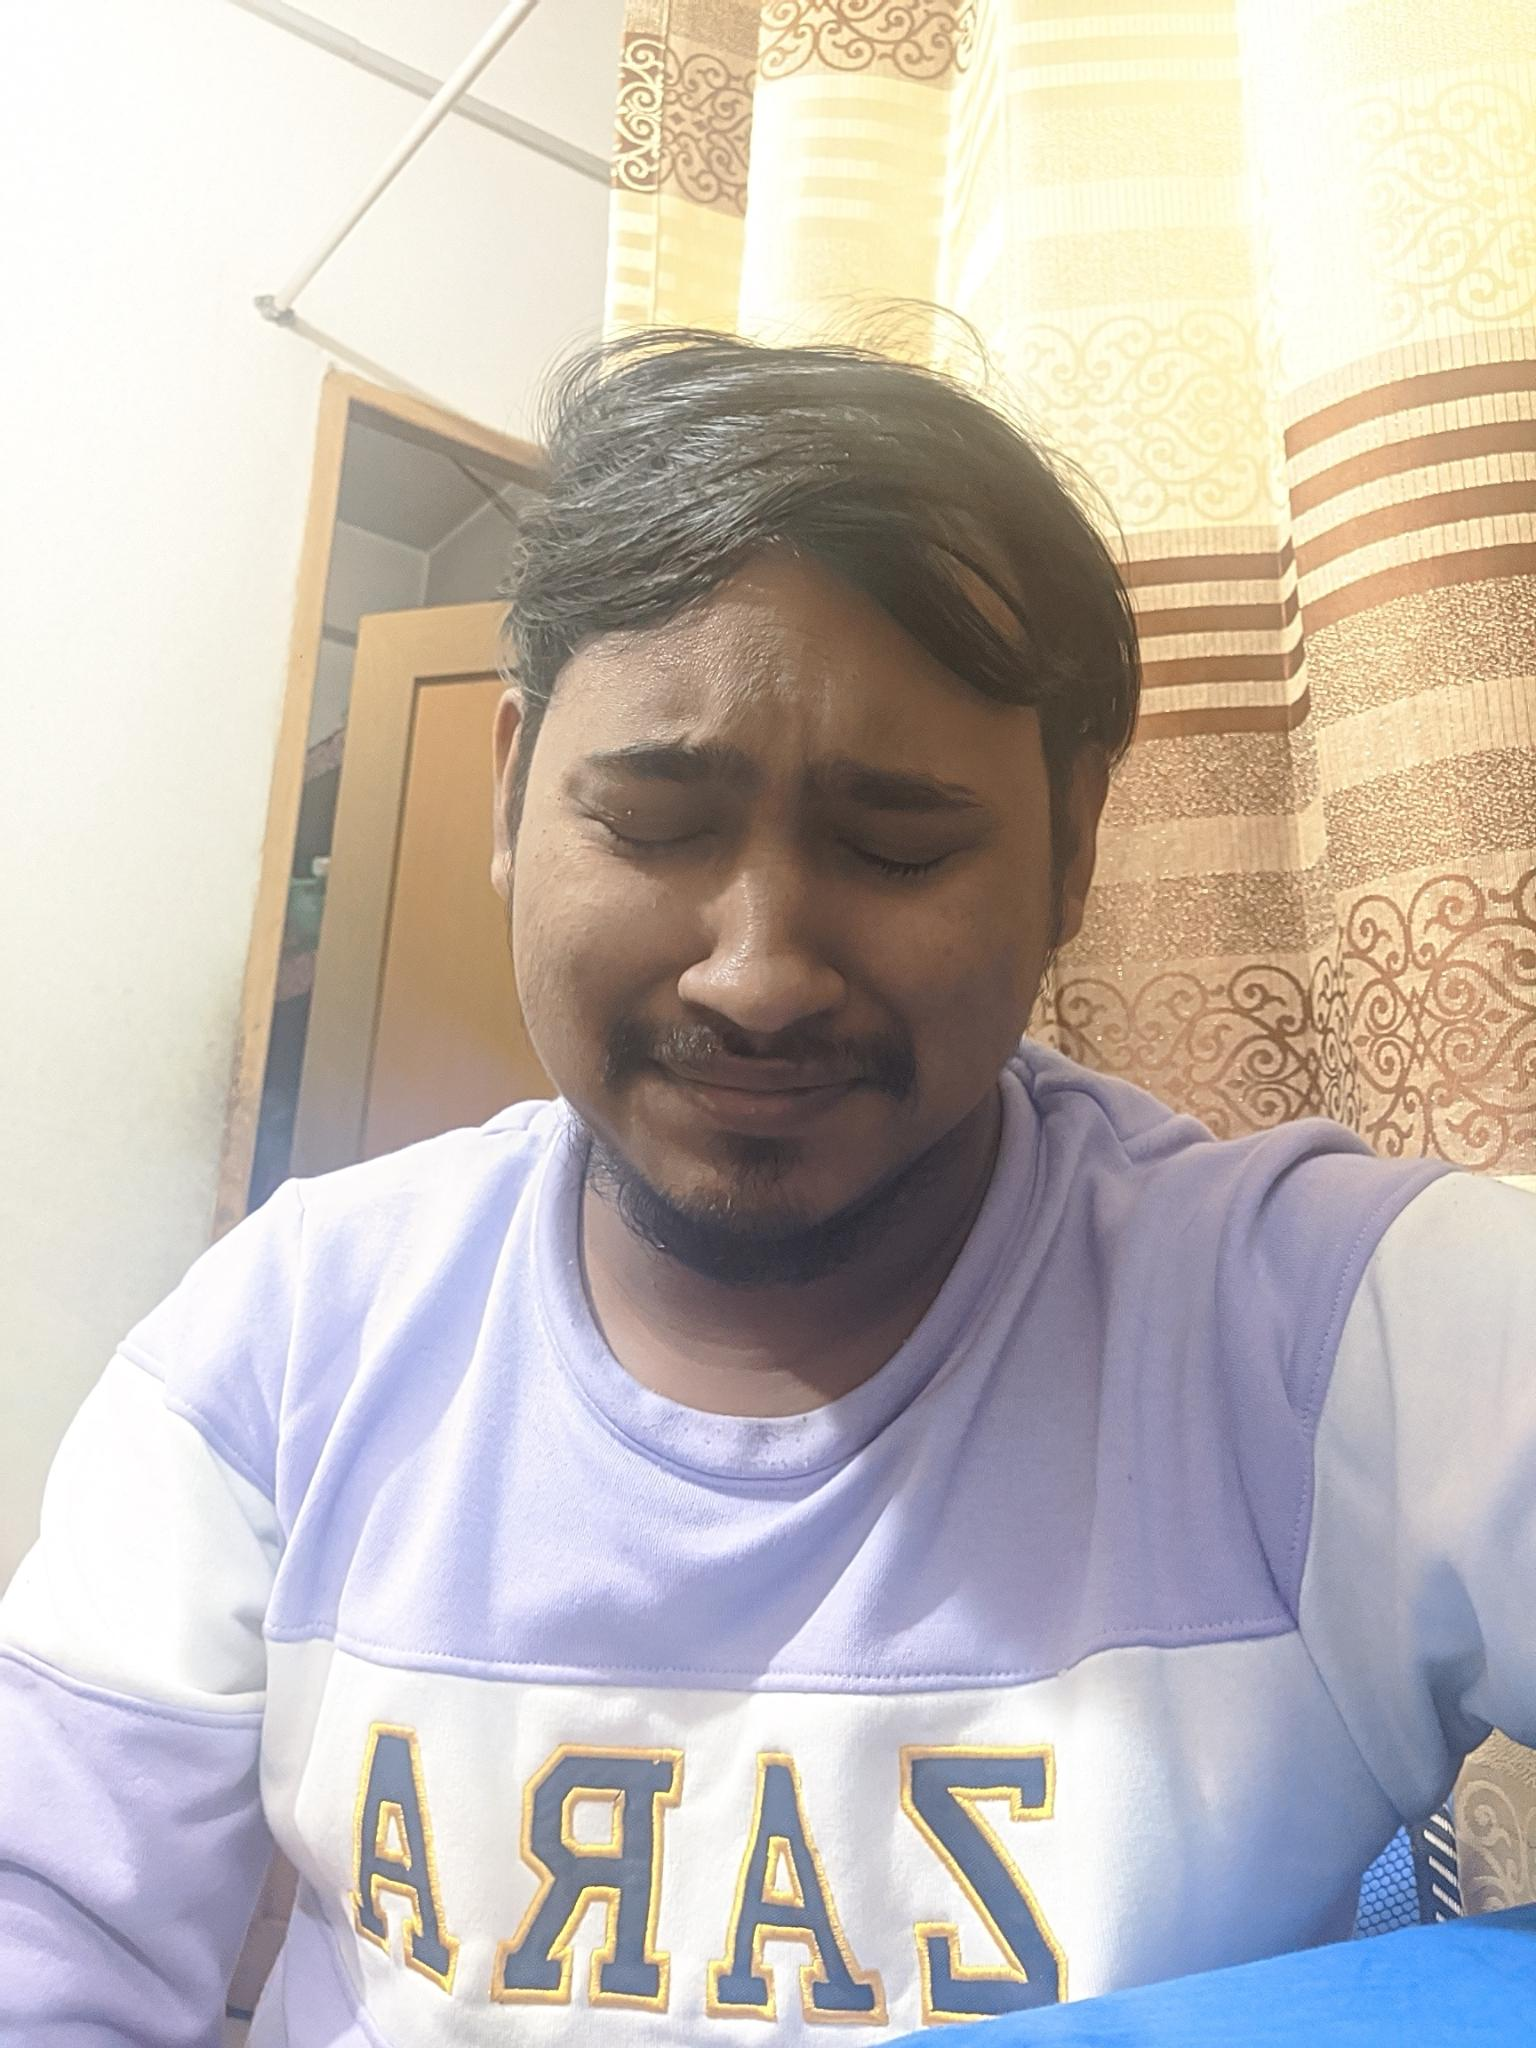Sad: (523, 666, 1029, 1258)
